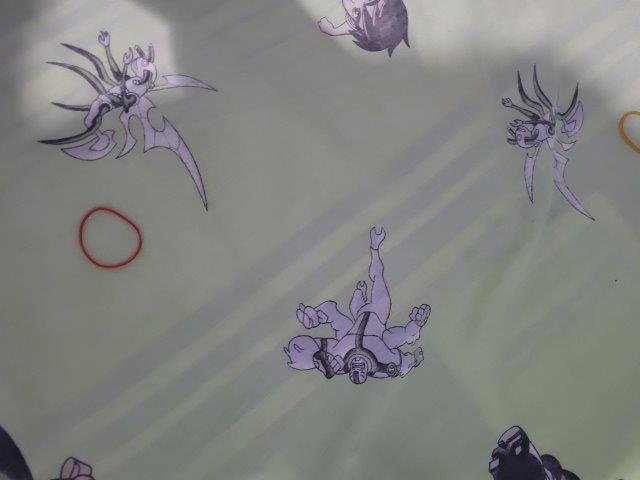karet: (76, 206, 143, 270), (617, 110, 640, 152)
